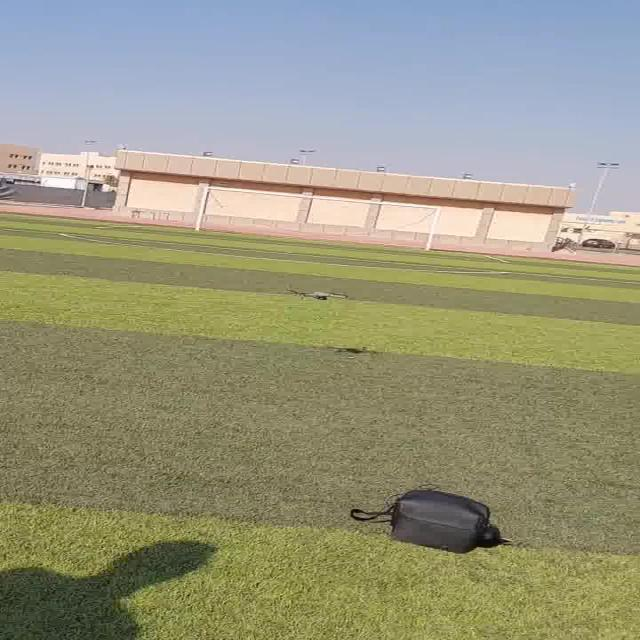drone: (250, 275, 354, 321)
